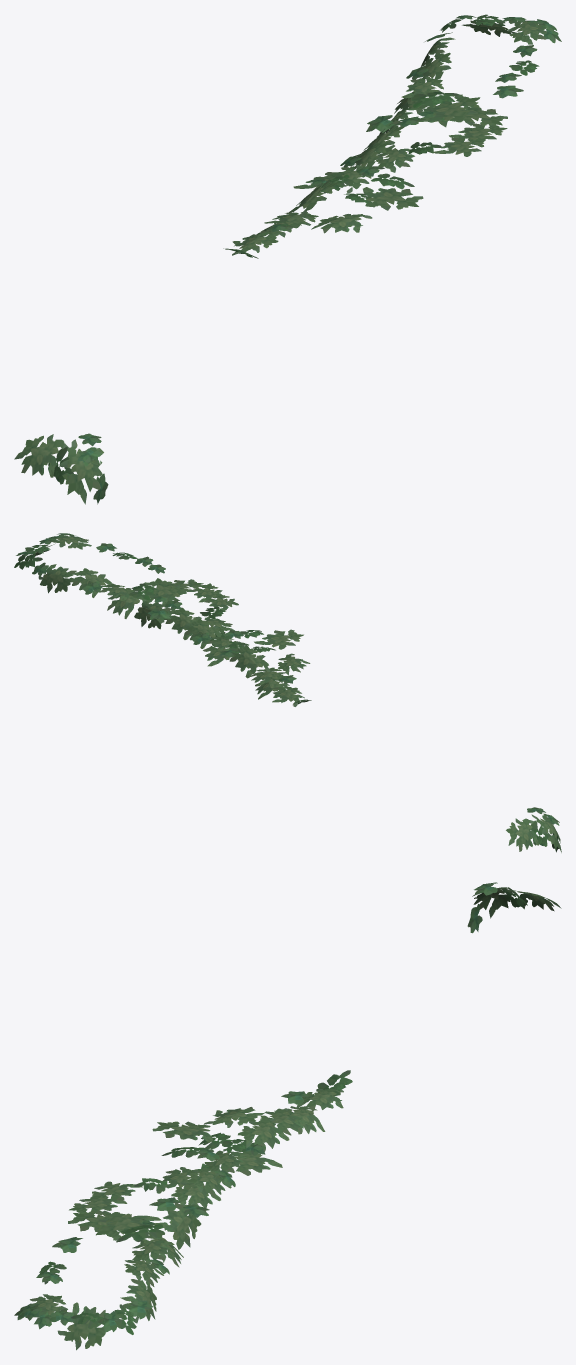
The model's file is pref_sm_beach_bk_pointmol_grassplant08_lv1.fbx.
The picture shows the model from 3 angles, top to bottom: view 1: azimuth 90°, elevation 25°; view 2: azimuth 150°, elevation 25°; view 3: azimuth 270°, elevation 25°; orthographic projection. The views are drawn at different scales.
Visible parts, largest first — view 1: pref_sm_beach_bk_pointmol_grassplant08_lv1; view 2: pref_sm_beach_bk_pointmol_grassplant08_lv1; view 3: pref_sm_beach_bk_pointmol_grassplant08_lv1.
Part boxes in pixels (x1=…): pref_sm_beach_bk_pointmol_grassplant08_lv1: x1=14, y1=14, x2=561, y2=504; pref_sm_beach_bk_pointmol_grassplant08_lv1: x1=14, y1=533, x2=561, y2=852; pref_sm_beach_bk_pointmol_grassplant08_lv1: x1=14, y1=882, x2=561, y2=1350.
Bounding box in the file's own units: 17.38 × 1.08 × 8.92.
